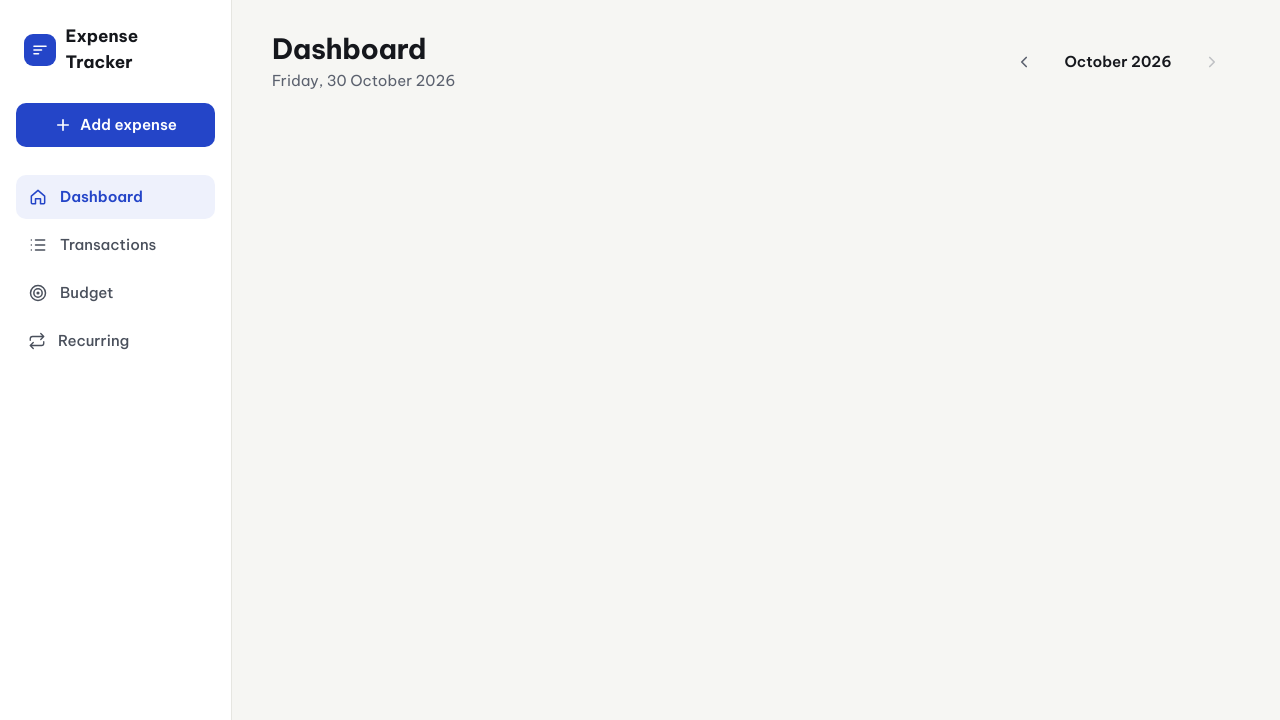
Test: R8 and R9: naming what moved over budget › names the category an edit moved over budget
Click the button "Transactions": (116, 245) [16,223,215,267]
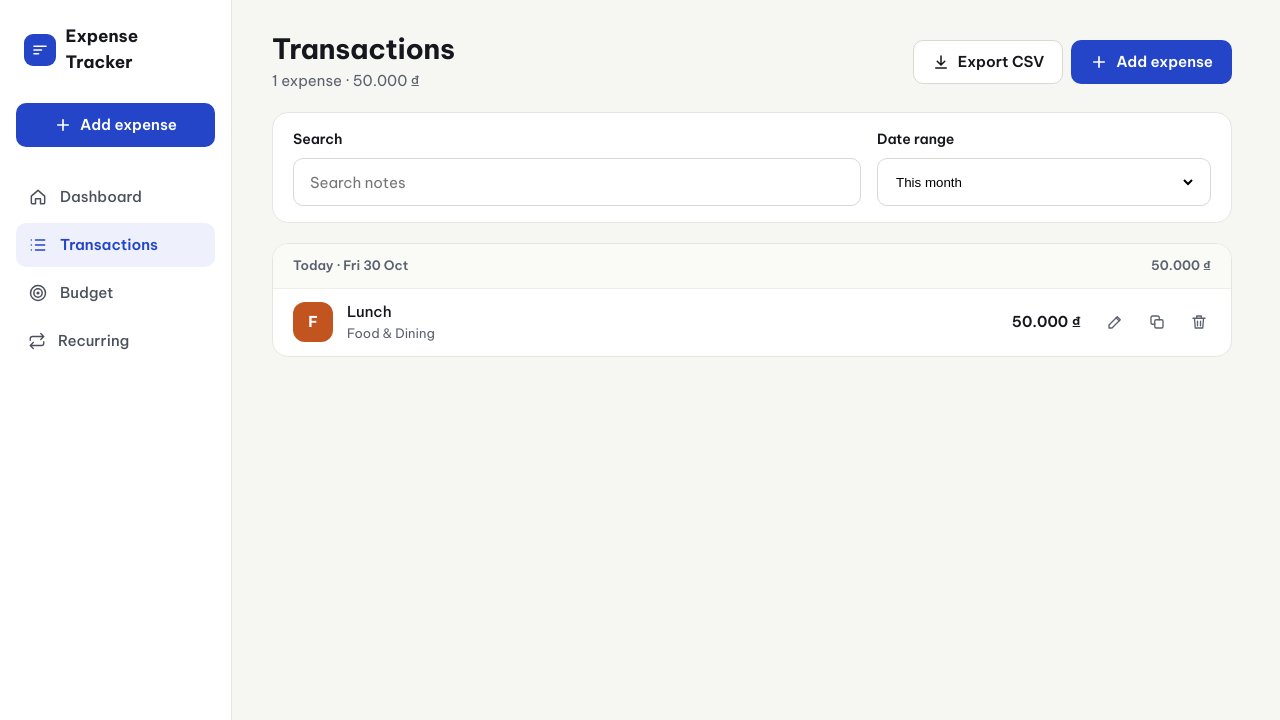
Expected: the button named "Edit Lunch" is shown
Click the button named "Edit Lunch": (1115, 322) [1095,302,1135,342]
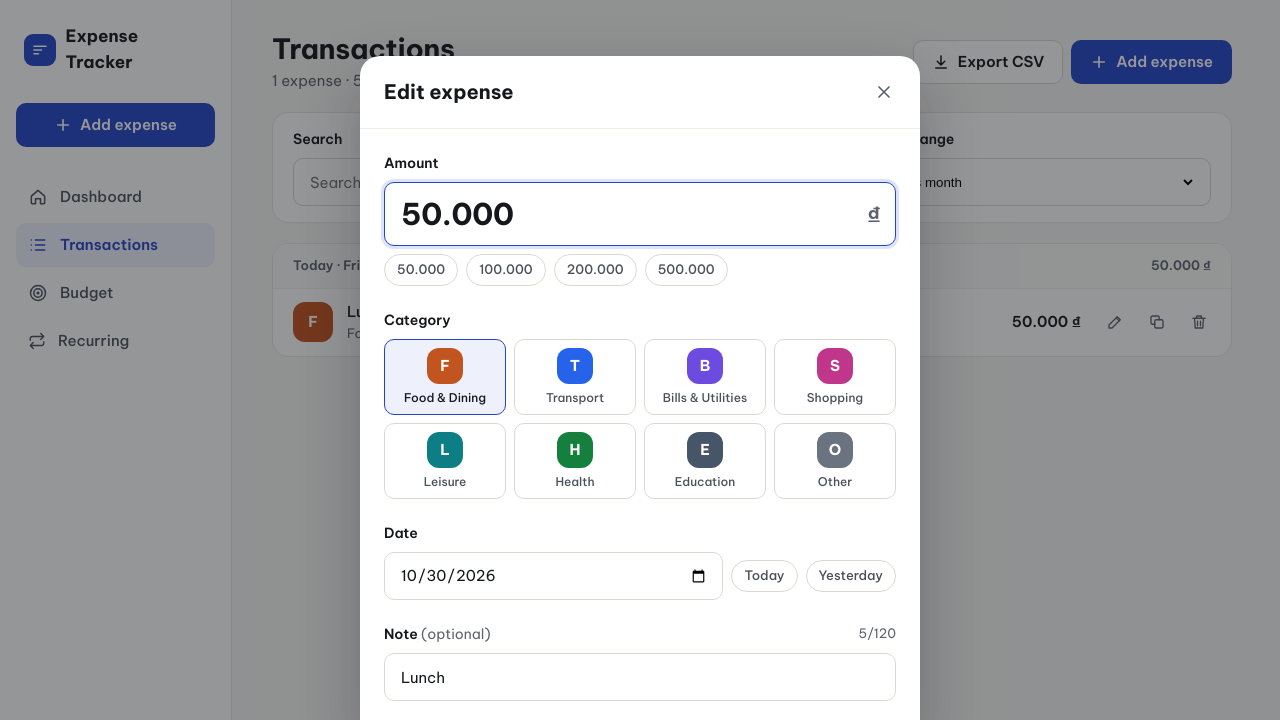
Replace the text in the field labelled "Amount" with "200000": (628, 214) [399,183,857,245]
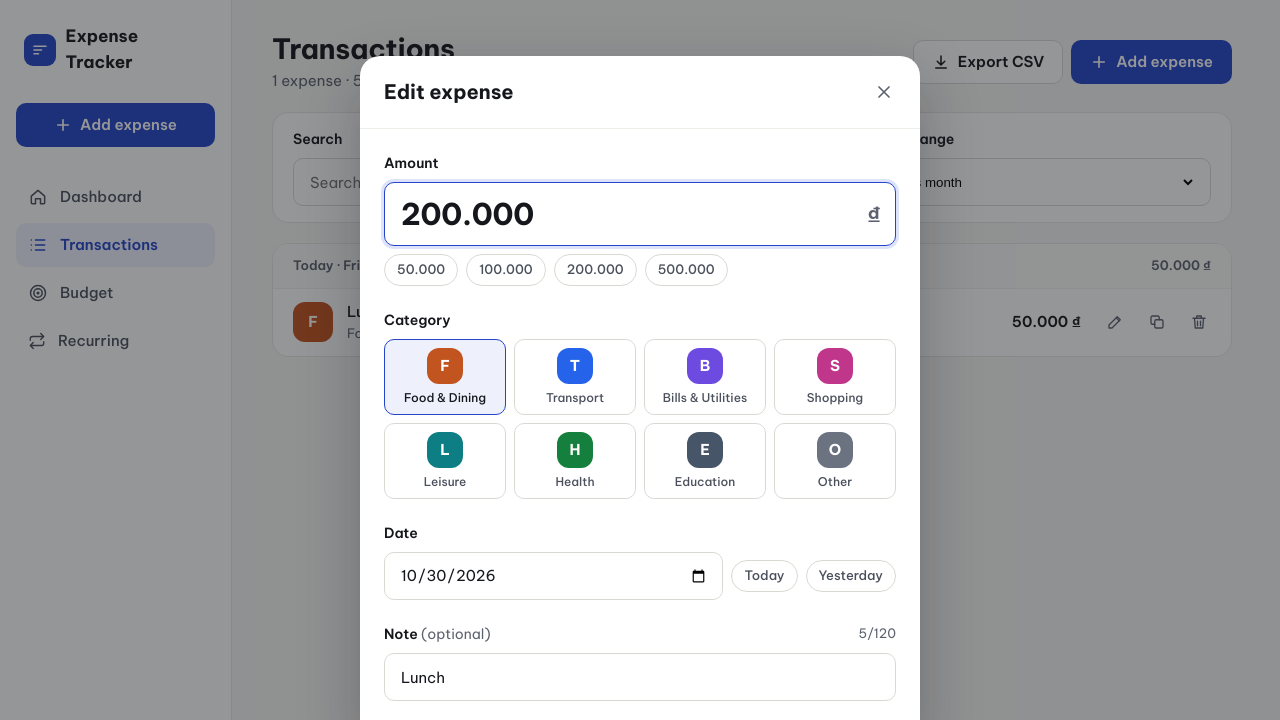
Click the button "F Food & Dining": (445, 377) [384,339,506,415]
(page scrolled)
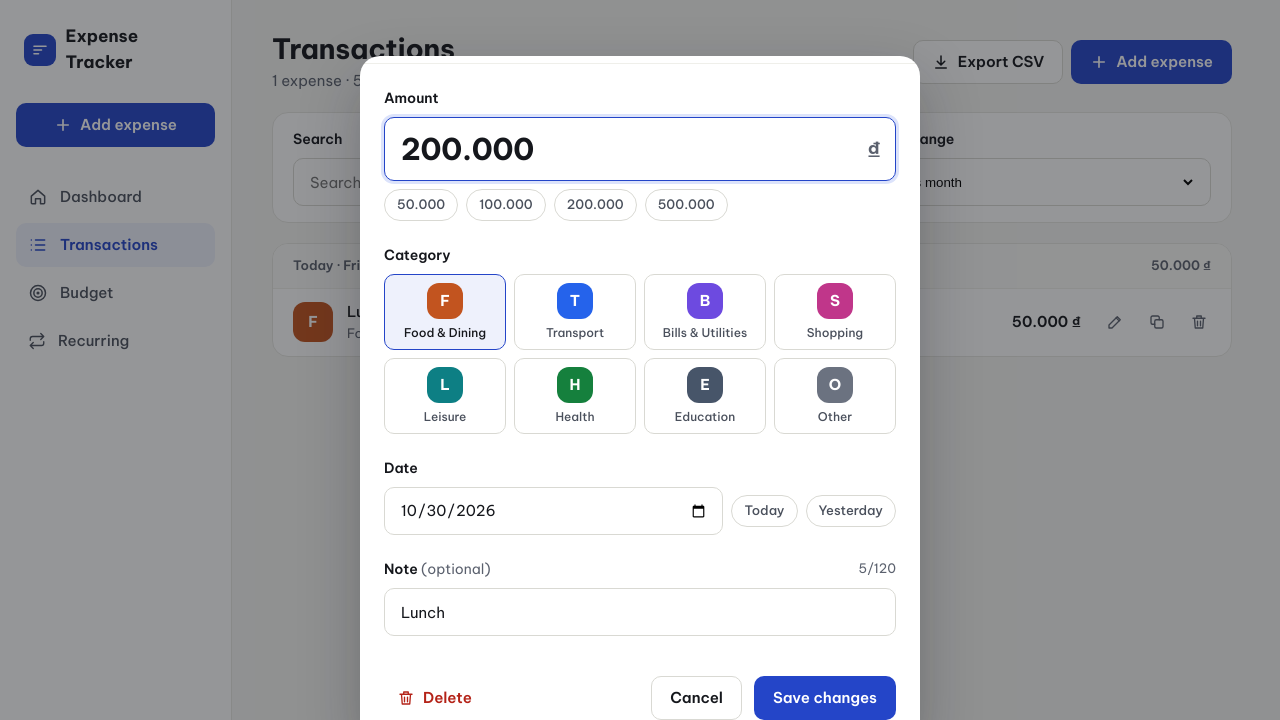
Click the button "Save changes": (825, 698) [754,676,896,719]
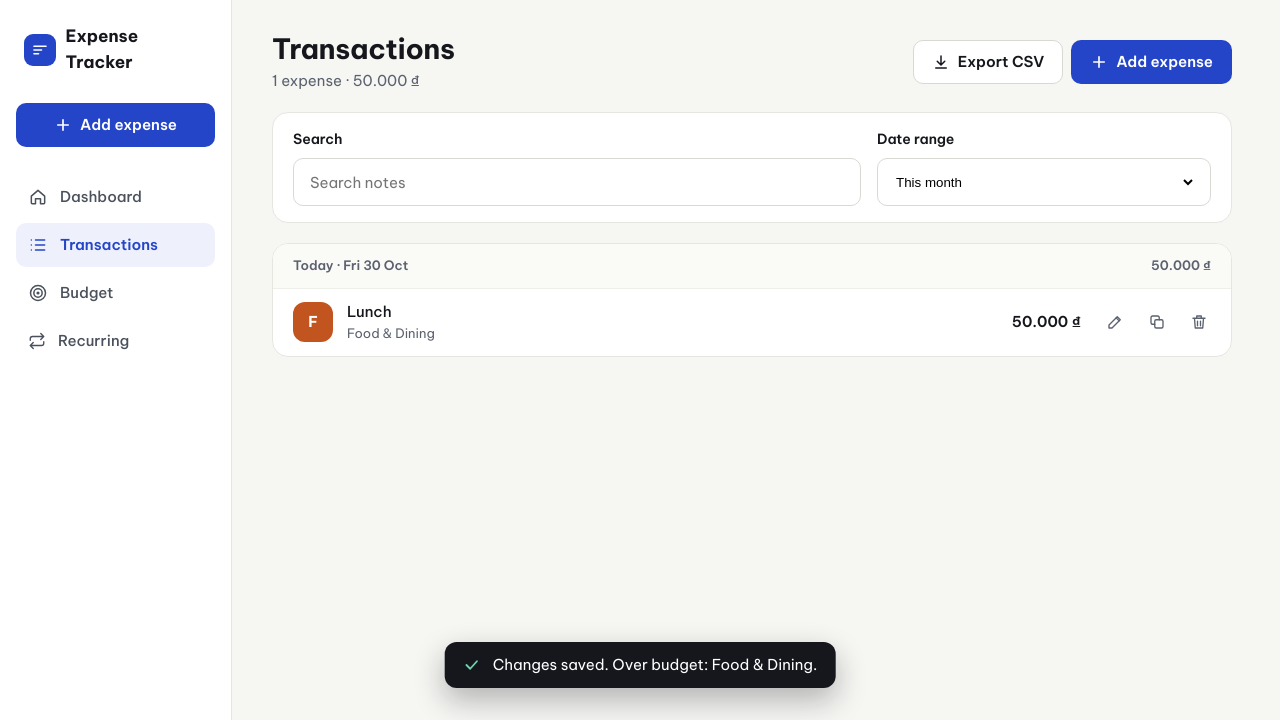
Expected: the text "Changes saved. Over budget: Food & Dining." is shown, [493,654,817,676]
